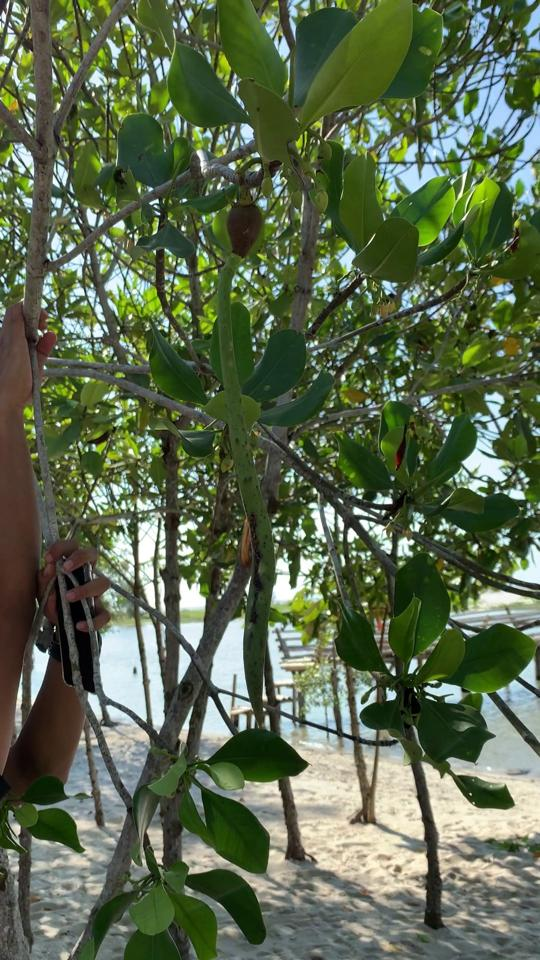setengah matang: (215, 174, 279, 732)
